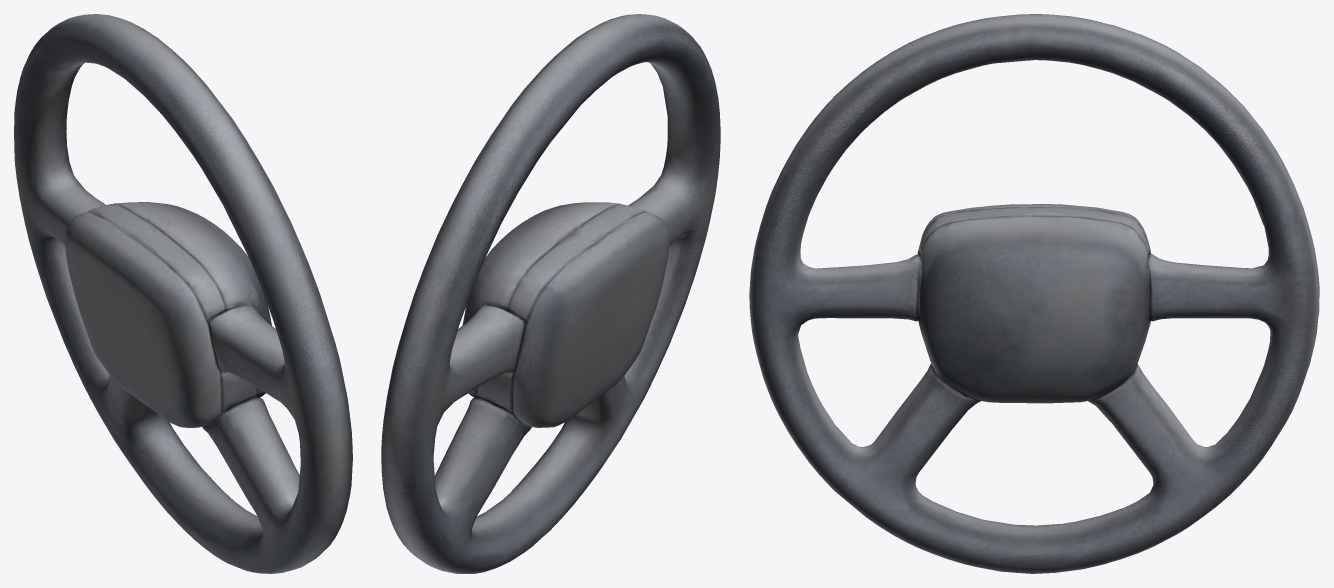
Rendered from volante.glb.
3 views of the same model, side by side, from view 1: azimuth 30°, elevation 25°; view 2: azimuth 150°, elevation 25°; view 3: azimuth 270°, elevation 25° (orthographic). The views are drawn at different scales.
Parts seen in each view (by area): view 1: tripo_node_23979026-d86e-406e-aa47-185537a20e4d; view 2: tripo_node_23979026-d86e-406e-aa47-185537a20e4d; view 3: tripo_node_23979026-d86e-406e-aa47-185537a20e4d.
Boxes of the visible parts, x1,y1,x2,y2 form: tripo_node_23979026-d86e-406e-aa47-185537a20e4d: (14,14,352,573); tripo_node_23979026-d86e-406e-aa47-185537a20e4d: (381,14,720,573); tripo_node_23979026-d86e-406e-aa47-185537a20e4d: (749,14,1319,573).
Bounding box in the file's own units: 0.2754 × 0.9963 × 0.9998.
Materials: 1 (1 with a texture image).
